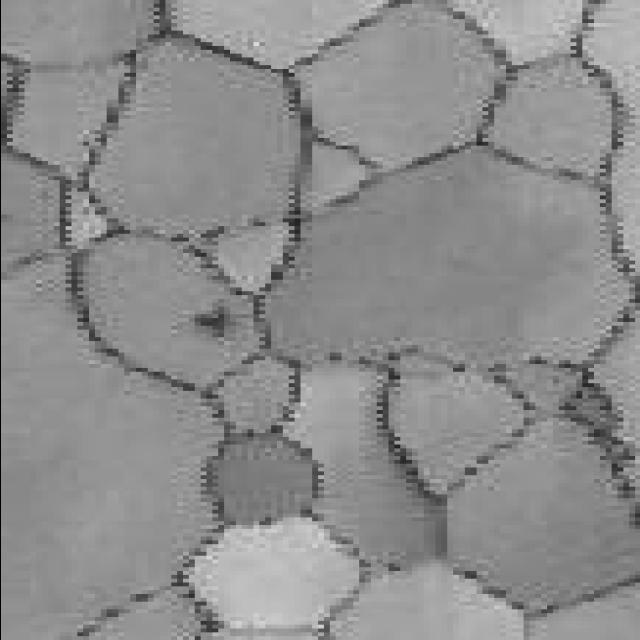good_void: (190, 302, 234, 340)
